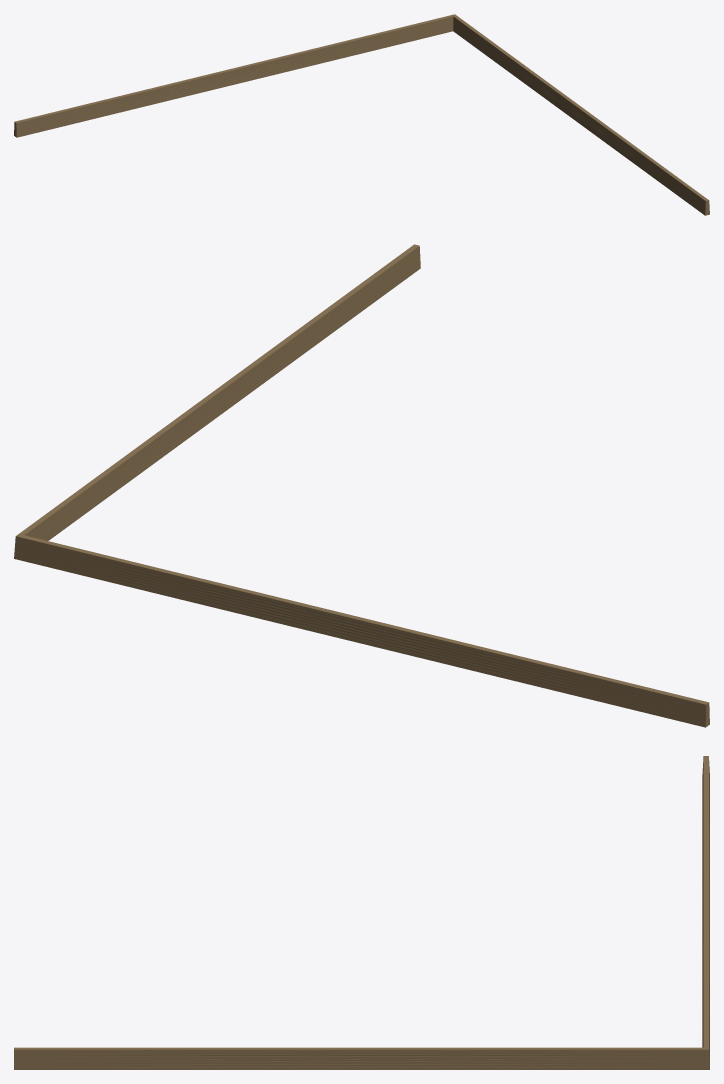
The model's file is enclosure-L-LOD0.glb.
3 renders of one model, top to bottom at view 1: azimuth 30°, elevation 25°; view 2: azimuth 150°, elevation 25°; view 3: azimuth 270°, elevation 25°, orthographic. The views are drawn at different scales.
Visible parts, largest first — view 1: biyong-enclosure-L-static_earth; view 2: biyong-enclosure-L-static_earth; view 3: biyong-enclosure-L-static_earth.
Part boxes in pixels (bbox=[...]): biyong-enclosure-L-static_earth: bbox=[14, 14, 709, 215]; biyong-enclosure-L-static_earth: bbox=[14, 244, 709, 727]; biyong-enclosure-L-static_earth: bbox=[14, 756, 709, 1069].
Bounding box in the file's own units: 64.35 × 2 × 64.35.
